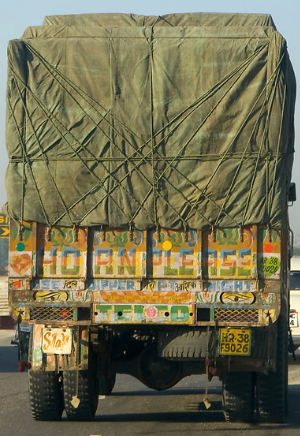truck: (1, 5, 295, 428)
